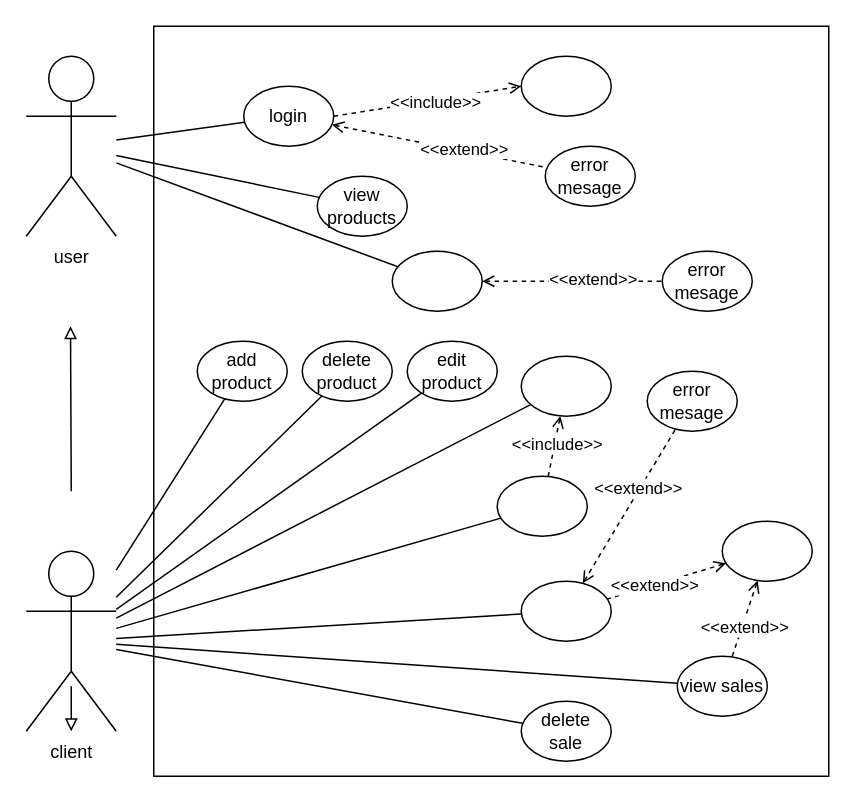
Some shapes in this 855 by 803 pixel diagram are drawn without their labels. The centre of each missing label's shape, as x and y in pixels:
"add sale" belongs at [541,505].
"check login" belongs at [565,85].
"Detail sale" belongs at [766,550].
"list product" belongs at [565,385].
"search product" belongs at [436,280].
"search sale" belongs at [565,610].
